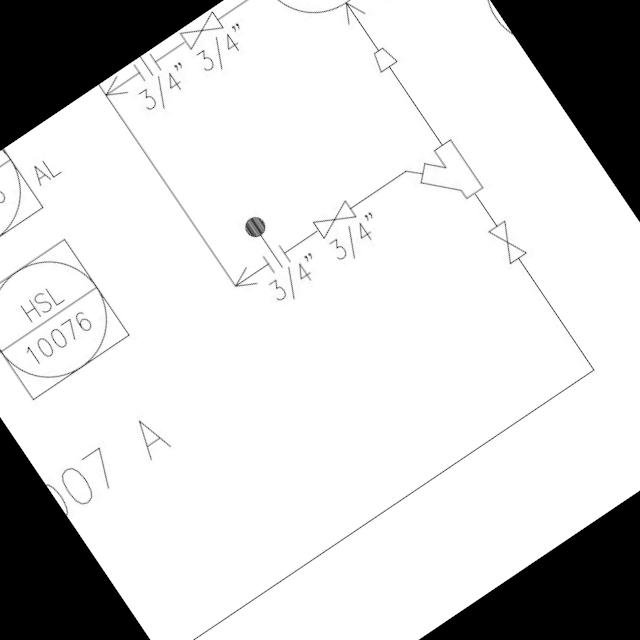GV: (304, 192, 362, 244), (481, 213, 532, 270), (173, 5, 230, 56)
SP: (362, 39, 401, 78)
